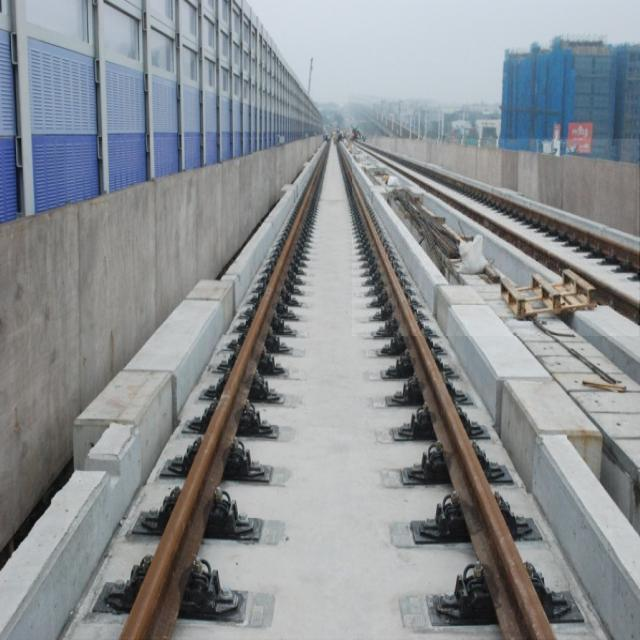rail: (68, 138, 613, 640), (354, 140, 640, 337)
